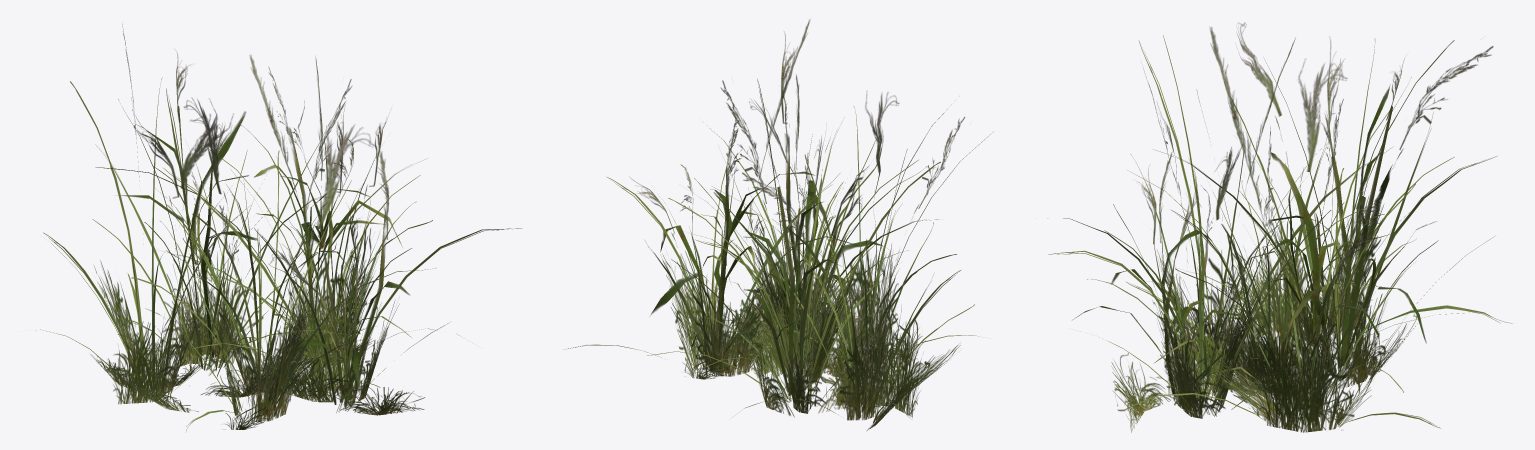
File: grass_tall.glb
3 renders of one model, left to right at view 1: azimuth 30°, elevation 25°; view 2: azimuth 150°, elevation 25°; view 3: azimuth 270°, elevation 25°, orthographic. The views are drawn at different scales.
Visible parts, largest first — view 1: mx_grass_tall; view 2: mx_grass_tall; view 3: mx_grass_tall.
Part boxes in pixels (bbox=[...]): mx_grass_tall: bbox=[36, 22, 521, 432]; mx_grass_tall: bbox=[564, 19, 990, 430]; mx_grass_tall: bbox=[1048, 22, 1512, 432].
Bounding box in the file's own units: 0.7114 × 0.6402 × 0.7633.
Materials: 1 (1 with a texture image).
